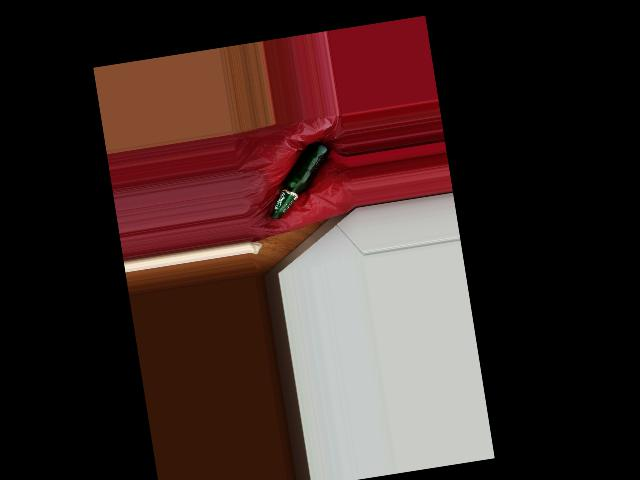beer: (259, 140, 337, 220)
